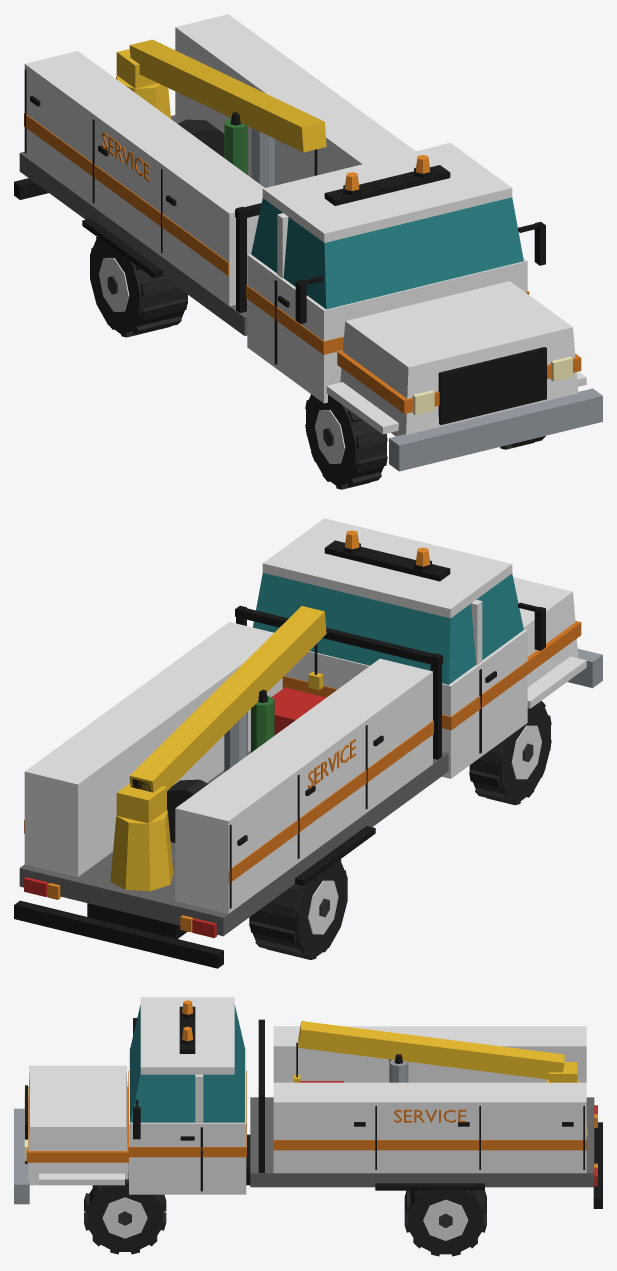
File: Vehicle_ServiceTruck.fbx
3 views of the same model, one above another, from view 1: azimuth 30°, elevation 25°; view 2: azimuth 150°, elevation 25°; view 3: azimuth 270°, elevation 25° (orthographic). The views are drawn at different scales.
Visible parts, largest first — view 1: Vehicle_ServiceTruck, Vehicle_ServiceTruck_Wheel_RR, Vehicle_ServiceTruck_Wheel_FR; view 2: Vehicle_ServiceTruck, Vehicle_ServiceTruck_Wheel_RR, Vehicle_ServiceTruck_Wheel_FR; view 3: Vehicle_ServiceTruck, Vehicle_ServiceTruck_Wheel_RL, Vehicle_ServiceTruck_Wheel_FL.
Boxes of the visible parts, x1=… form: Vehicle_ServiceTruck: x1=14, y1=14, x2=602, y2=471; Vehicle_ServiceTruck_Wheel_RR: x1=90, y1=237, x2=187, y2=337; Vehicle_ServiceTruck_Wheel_FR: x1=305, y1=394, x2=387, y2=489; Vehicle_ServiceTruck: x1=14, y1=518, x2=602, y2=968; Vehicle_ServiceTruck_Wheel_RR: x1=249, y1=859, x2=347, y2=959; Vehicle_ServiceTruck_Wheel_FR: x1=469, y1=701, x2=551, y2=805; Vehicle_ServiceTruck: x1=14, y1=997, x2=602, y2=1208; Vehicle_ServiceTruck_Wheel_RL: x1=404, y1=1190, x2=486, y2=1256; Vehicle_ServiceTruck_Wheel_FL: x1=84, y1=1172, x2=166, y2=1254.
Bounding box in the file's own units: 2.77 × 2.87 × 7.53.
